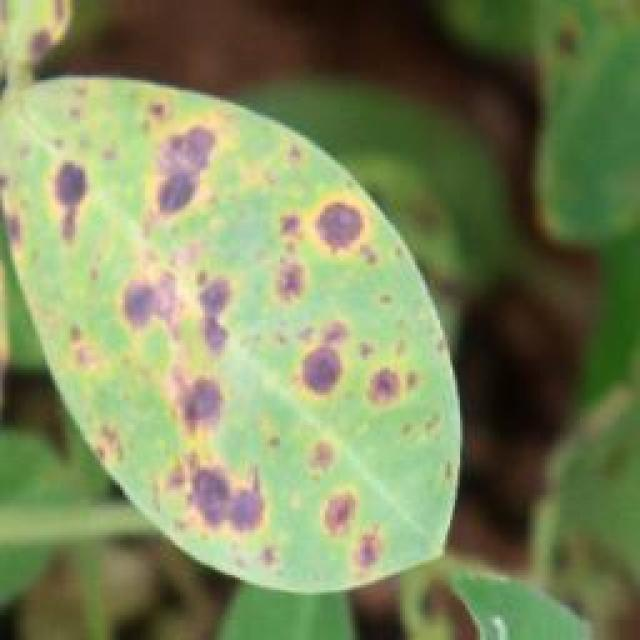Yellowish: (0, 44, 472, 607)
